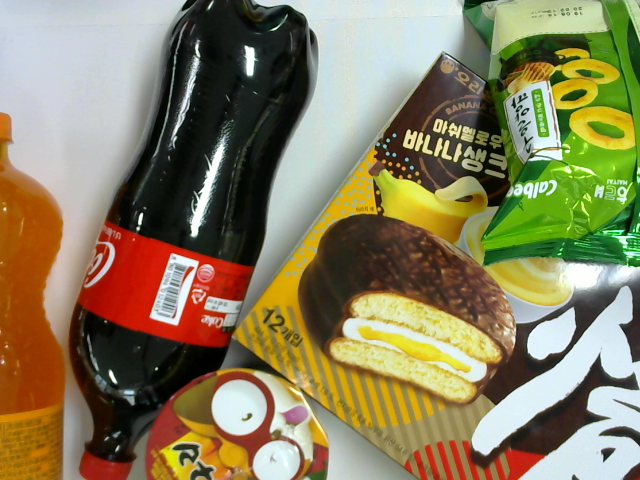Choco_Pie_Banana: (229, 49, 638, 479)
Coca_Cola_1.5L: (69, 1, 320, 480)
Grilled_Onions: (458, 1, 640, 269)
Hwanta_Orange_1.5L: (1, 110, 66, 479)
Raccoon: (145, 365, 332, 480)
